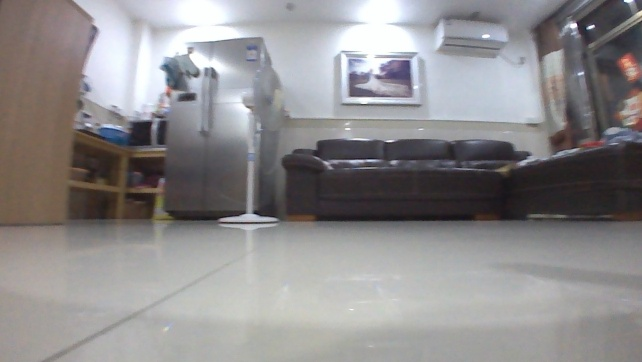chair_base: (215, 208, 280, 227)
refrigerator: (160, 33, 280, 223)
sofa: (278, 134, 641, 225)
